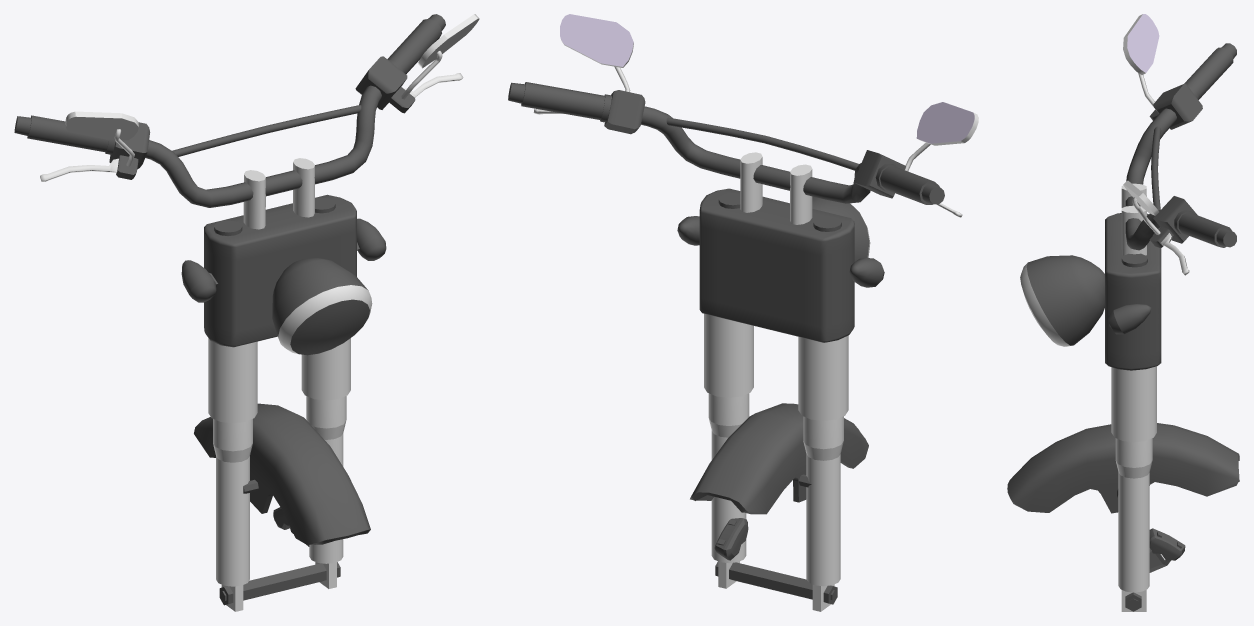
Rendered from bike_chop_front_suspension.fbx.
The picture shows the model from 3 angles, left to right: view 1: azimuth 30°, elevation 25°; view 2: azimuth 150°, elevation 25°; view 3: azimuth 270°, elevation 25°; orthographic projection. The views are drawn at different scales.
Visible parts, largest first — view 1: polySurface191, polySurface189; view 2: polySurface191, polySurface189; view 3: polySurface191, polySurface189.
Part boxes in pixels (x1,y1,x2,y2): polySurface191: [14, 14, 479, 423]; polySurface189: [194, 396, 370, 611]; polySurface191: [508, 14, 978, 420]; polySurface189: [690, 393, 868, 611]; polySurface191: [1020, 14, 1236, 442]; polySurface189: [1007, 423, 1239, 611].
Bounding box in the file's own units: 94.86 × 111 × 48.2.
